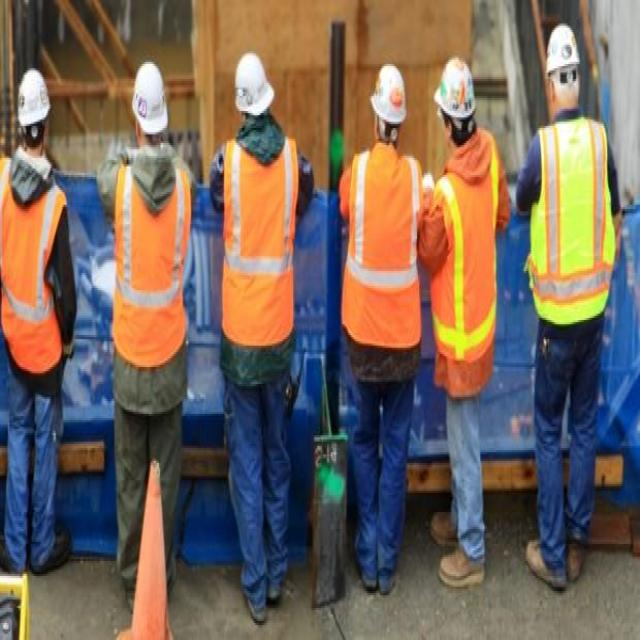Reflective-Jacket: (220, 132, 299, 367), (529, 111, 613, 328), (111, 160, 192, 384), (430, 141, 500, 390), (342, 145, 420, 358), (0, 156, 65, 380)
Safety-Helmet: (130, 53, 171, 141), (434, 49, 480, 126), (231, 45, 276, 119), (368, 56, 409, 130), (13, 64, 52, 132), (543, 19, 582, 79)
